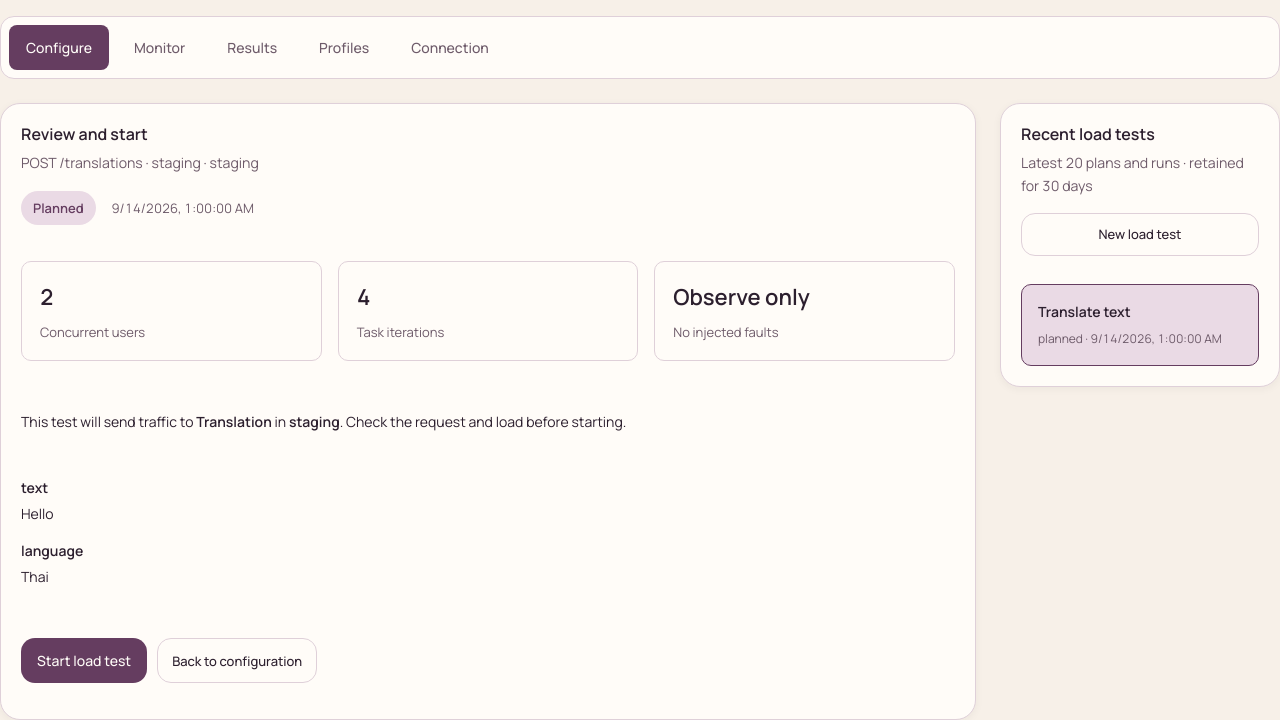
Scenario: service load testing › retains the same plan after a start failure so retry is safe
(page scrolled)
Click the button "Start load test" at (84, 661), box [21, 638, 147, 684]
(page scrolled)
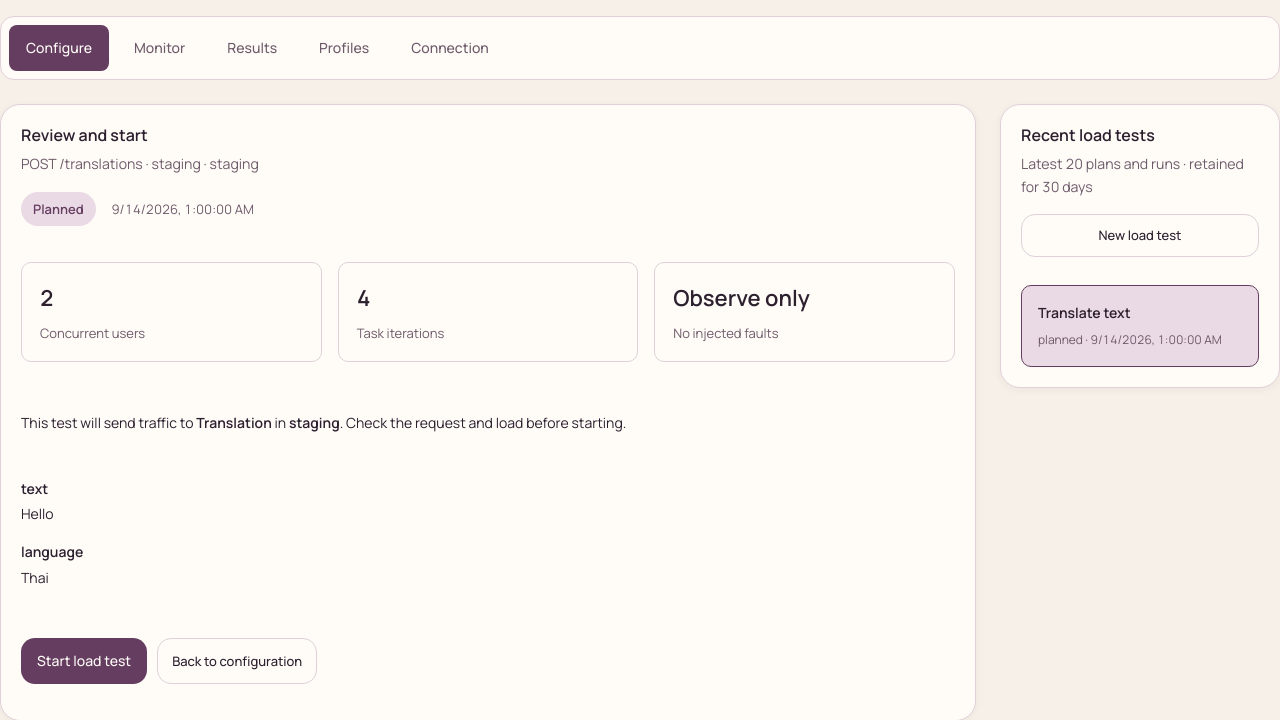
Click the button "Start load test" at (84, 661), box [21, 638, 147, 684]
(page scrolled)
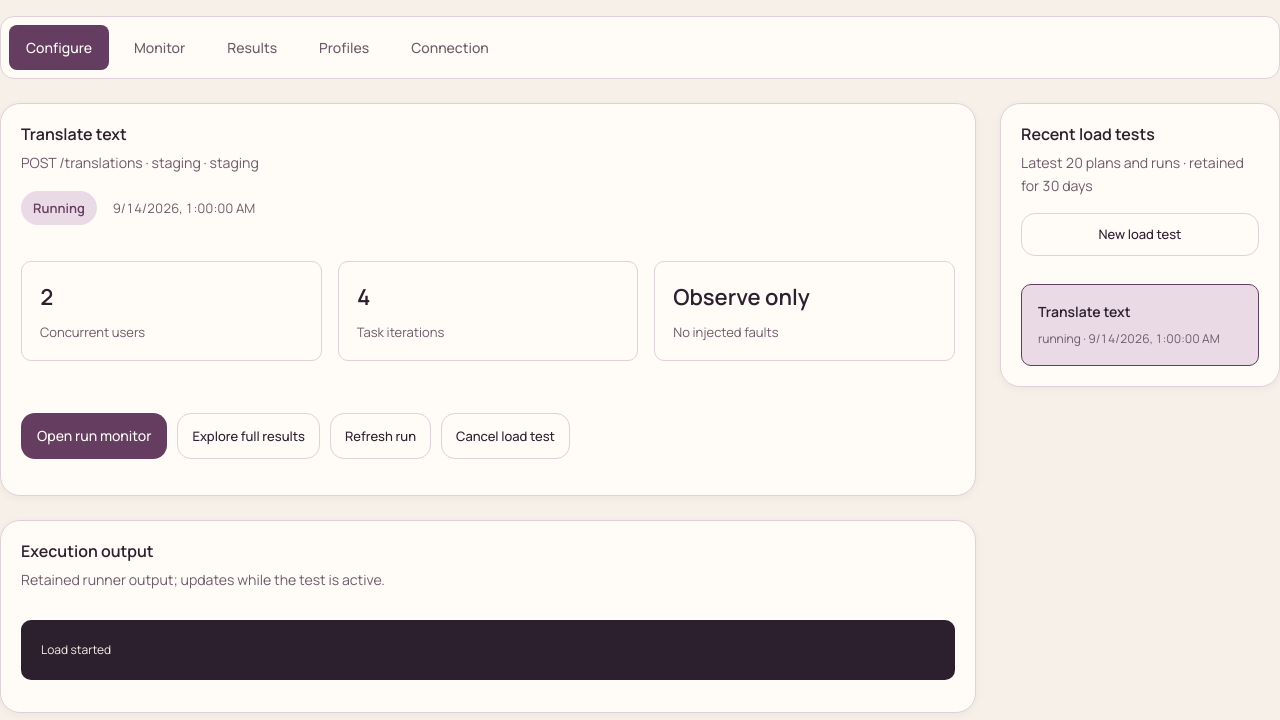
Expected: the text "Load started" is shown, [21, 620, 955, 680]
